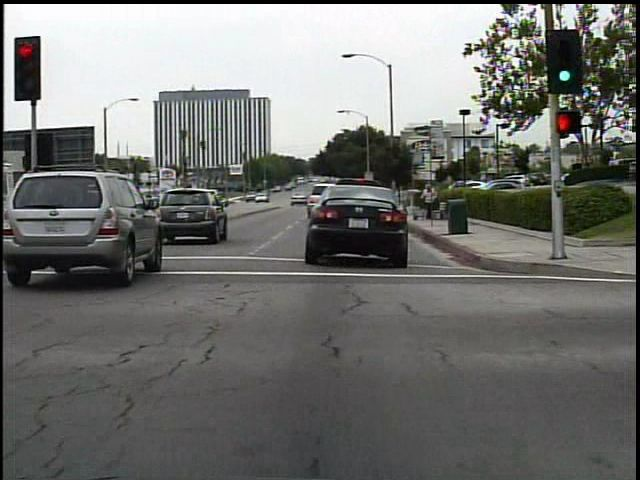person: (418, 178, 439, 223)
